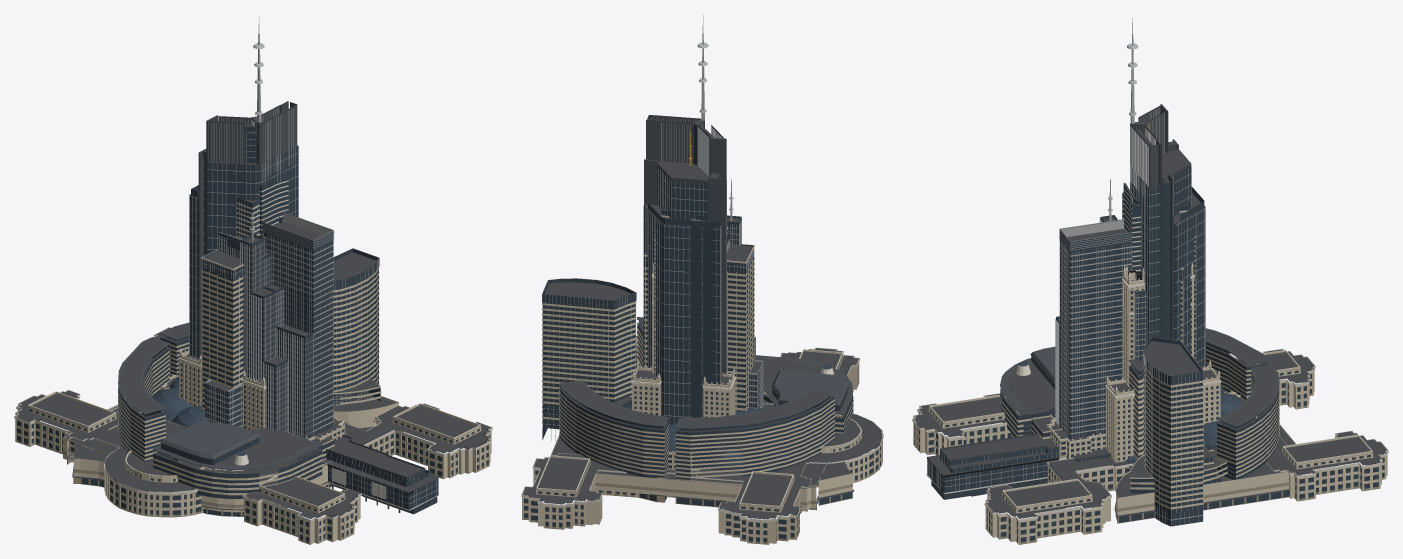
The model's file is warsaw.glb.
The picture shows the model from 3 angles, left to right: view 1: azimuth 30°, elevation 25°; view 2: azimuth 150°, elevation 25°; view 3: azimuth 270°, elevation 25°; orthographic projection. The views are drawn at different scales.
Parts seen in each view (by area): view 1: hero__237574573, hero__89352683, hero__234881014, hero__875519280, hero__235880567, hero__350962669, hero__961565573, hero__239175870; view 2: hero__237574573, hero__875519280, hero__89352683, hero__235880567, hero__961565573, hero__234881014, hero__239175870; view 3: hero__237574573, hero__89352683, hero__234881014, hero__875519280, hero__350962669, hero__239175870, hero__140367961, hero__235880567.
Boxes of the visible parts, bbox=[...] form: hero__237574573: bbox=[62, 248, 398, 516]; hero__89352683: bbox=[14, 112, 492, 544]; hero__234881014: bbox=[240, 194, 346, 461]; hero__875519280: bbox=[189, 16, 298, 358]; hero__235880567: bbox=[201, 249, 243, 410]; hero__350962669: bbox=[323, 435, 438, 514]; hero__961565573: bbox=[165, 234, 266, 461]; hero__239175870: bbox=[236, 180, 288, 238]; hero__237574573: bbox=[542, 278, 854, 513]; hero__875519280: bbox=[643, 14, 726, 424]; hero__89352683: bbox=[521, 124, 883, 544]; hero__235880567: bbox=[643, 244, 754, 411]; hero__961565573: bbox=[727, 229, 774, 409]; hero__234881014: bbox=[611, 179, 741, 406]; hero__239175870: bbox=[654, 206, 708, 374]; hero__237574573: bbox=[1000, 328, 1301, 526]; hero__89352683: bbox=[912, 122, 1388, 544]; hero__234881014: bbox=[1049, 179, 1222, 483]; hero__875519280: bbox=[1127, 17, 1205, 369]; hero__350962669: bbox=[926, 433, 1068, 499]; hero__239175870: bbox=[1122, 182, 1195, 359]; hero__140367961: bbox=[1125, 356, 1143, 459]; hero__235880567: bbox=[1134, 267, 1183, 361].
Bounding box in the file's own units: 256 × 310 × 301.
